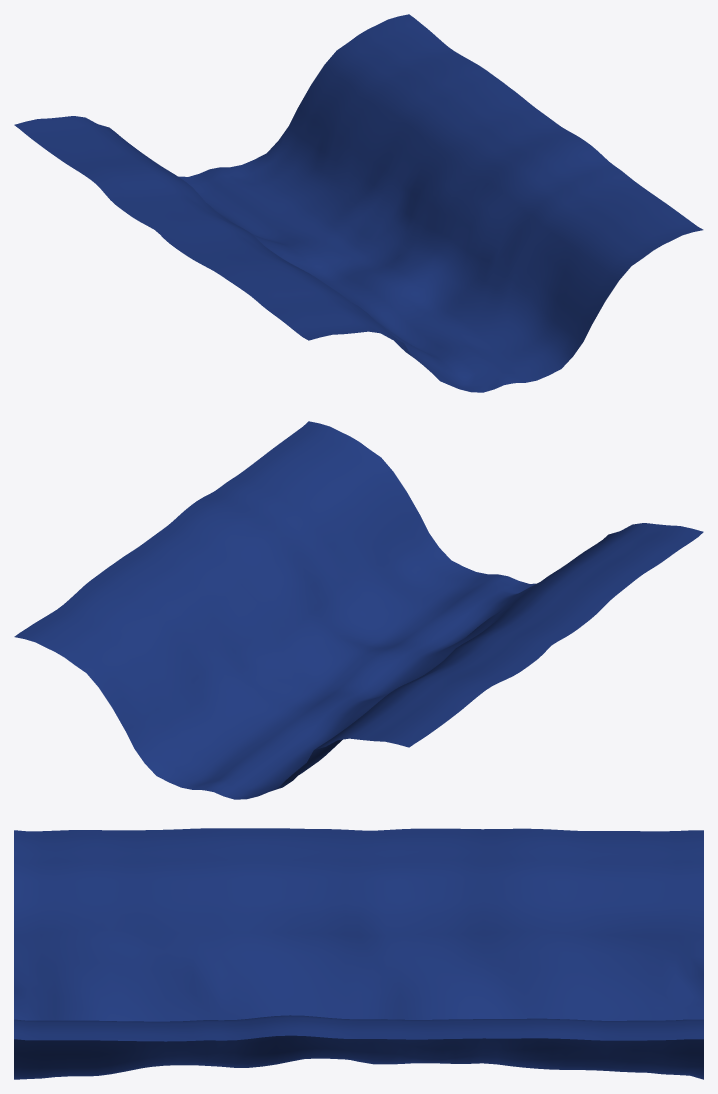
The model's file is ForestPlot.fbx.
The picture shows the model from 3 angles, top to bottom: view 1: azimuth 30°, elevation 25°; view 2: azimuth 150°, elevation 25°; view 3: azimuth 270°, elevation 25°; orthographic projection. The views are drawn at different scales.
Visible parts, largest first — view 1: Plane004; view 2: Plane004; view 3: Plane004.
Boxes of the visible parts, box(x1,y1,x2,y2) form: Plane004: box(14, 14, 703, 392); Plane004: box(14, 421, 703, 799); Plane004: box(14, 828, 703, 1079).
Bounding box in the file's own units: 3918 × 1058 × 5001.
